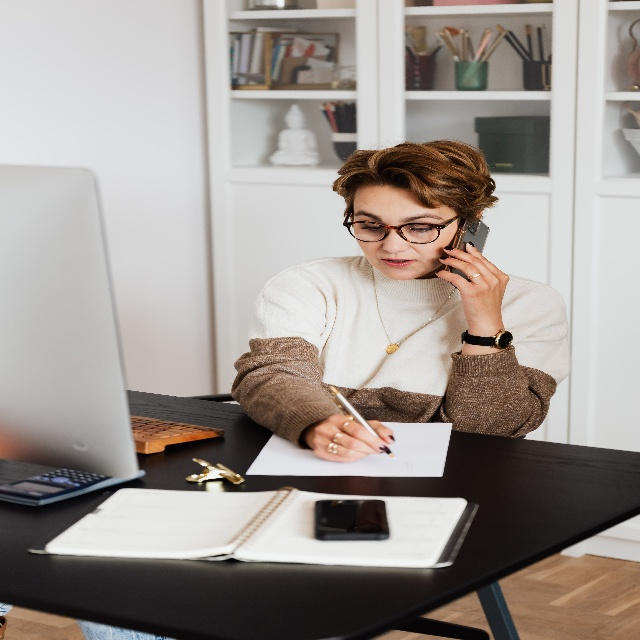Gafas: (343, 208, 459, 245)
Sin_guantes: (433, 240, 511, 324), (312, 411, 395, 461)
